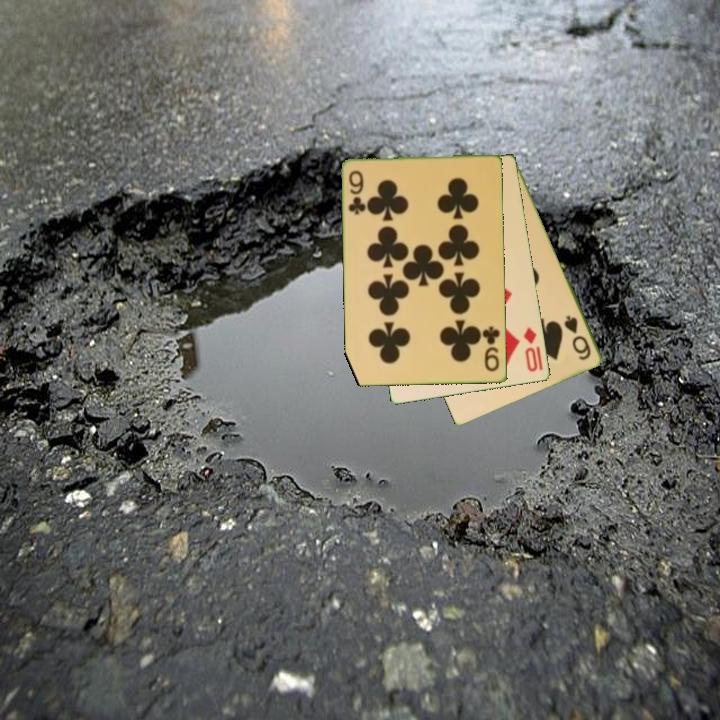10d: (520, 323, 546, 375)
6s: (561, 312, 594, 363)
9c: (480, 323, 503, 375), (345, 167, 368, 218)
